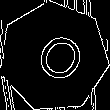O_SW: (22, 24, 86, 90)
